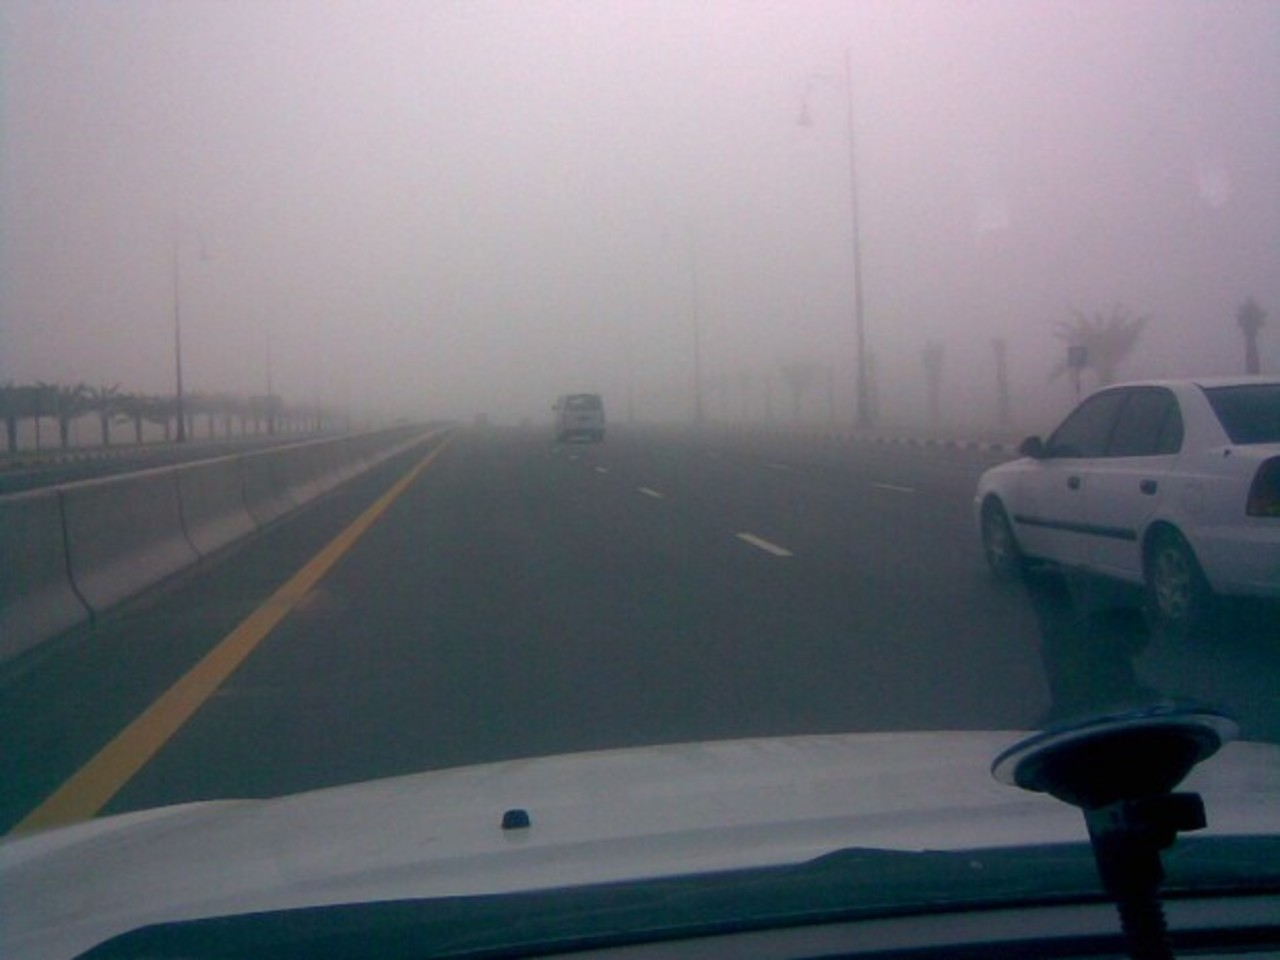car: (978, 373, 1279, 635), (552, 387, 605, 442)
